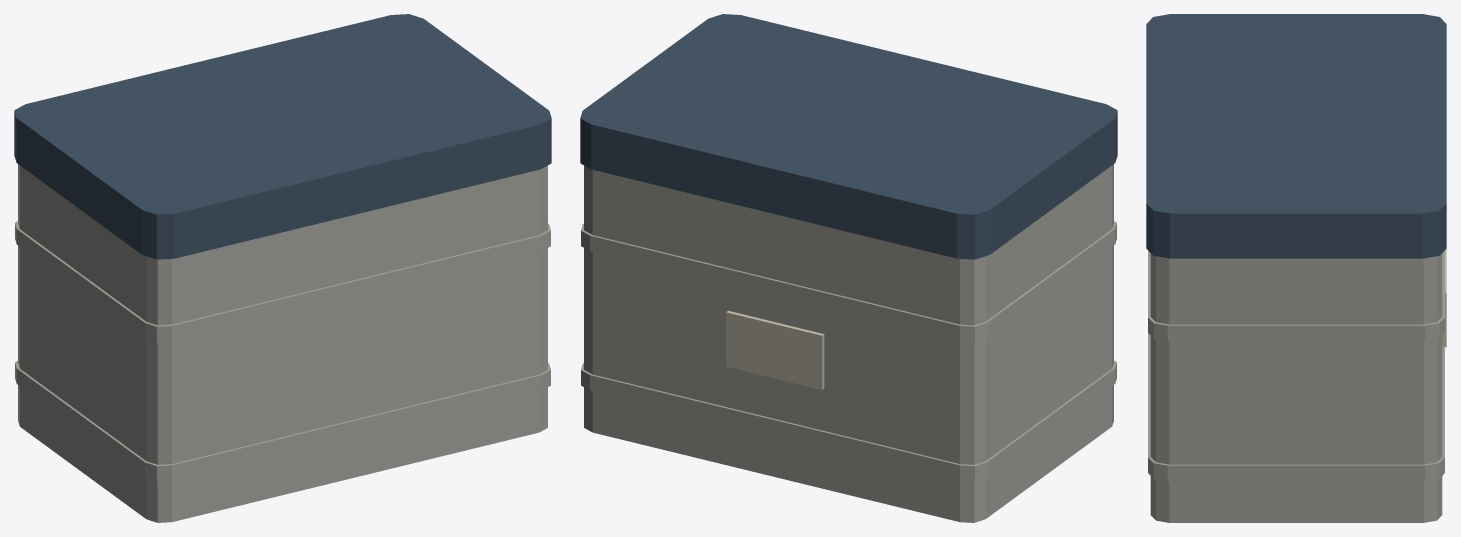
The model's file is storage_bin.glb.
3 views of the same model, side by side, from view 1: azimuth 30°, elevation 25°; view 2: azimuth 150°, elevation 25°; view 3: azimuth 270°, elevation 25° (orthographic).
Visible parts, largest first — view 1: storage_bin; view 2: storage_bin; view 3: storage_bin.
Boxes of the visible parts, left/top/right/bottom form: storage_bin: left=14, top=14, right=551, bottom=522; storage_bin: left=580, top=14, right=1117, bottom=522; storage_bin: left=1146, top=14, right=1446, bottom=522.
Bounding box in the file's own units: 0.55 × 0.4 × 0.35.
